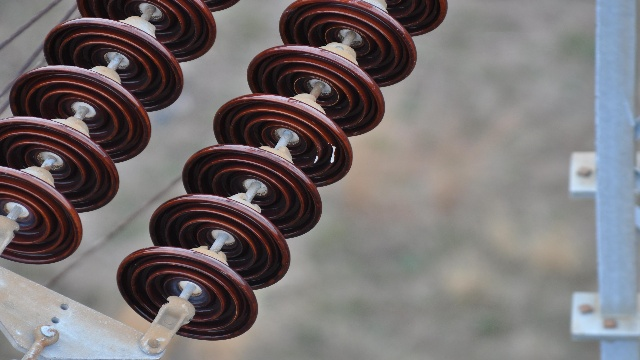insulator_unspecified: (0, 1, 448, 340)
